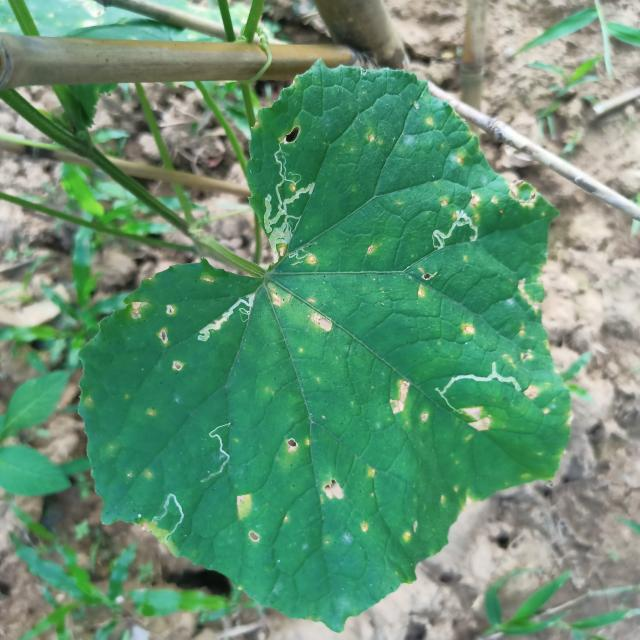disease_cucumber: (128, 300, 185, 372), (502, 321, 554, 374), (524, 380, 578, 426), (469, 178, 538, 212), (387, 380, 429, 428), (236, 493, 261, 544), (507, 276, 540, 314), (306, 298, 334, 335), (462, 405, 491, 433), (319, 477, 346, 507), (268, 282, 294, 310), (286, 435, 310, 457), (418, 268, 435, 299), (402, 518, 419, 543), (368, 130, 381, 146), (424, 116, 436, 131), (462, 322, 474, 336), (279, 246, 287, 260), (202, 275, 214, 284), (306, 256, 316, 266)
